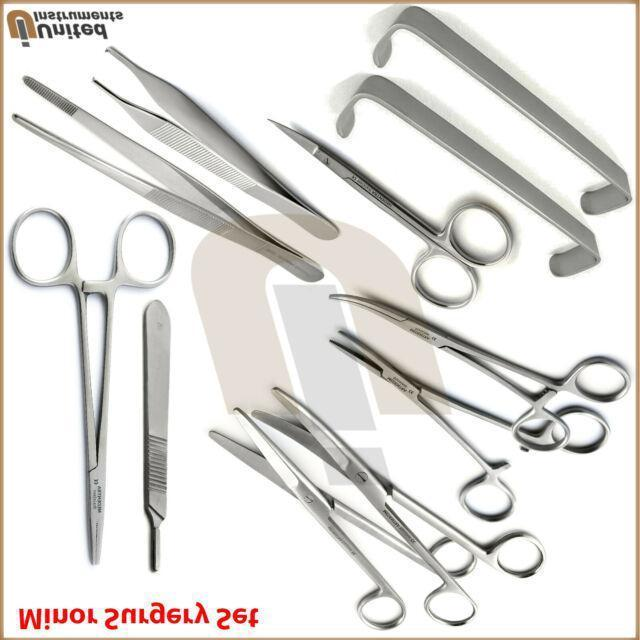Army_navy: (334, 72, 603, 280), (372, 4, 633, 218)
Forceps: (10, 68, 328, 284), (88, 45, 341, 244)
Hemostat: (328, 327, 613, 527), (326, 290, 634, 456)
Iris: (263, 114, 518, 311)
Mayo_metz: (251, 382, 548, 631), (206, 404, 478, 636)
Scalpel: (139, 298, 173, 576)
